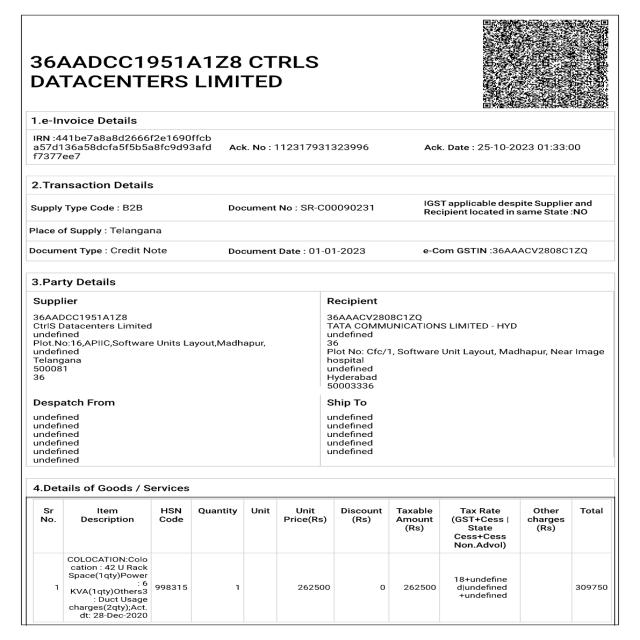QRCode: (478, 14, 613, 112)
